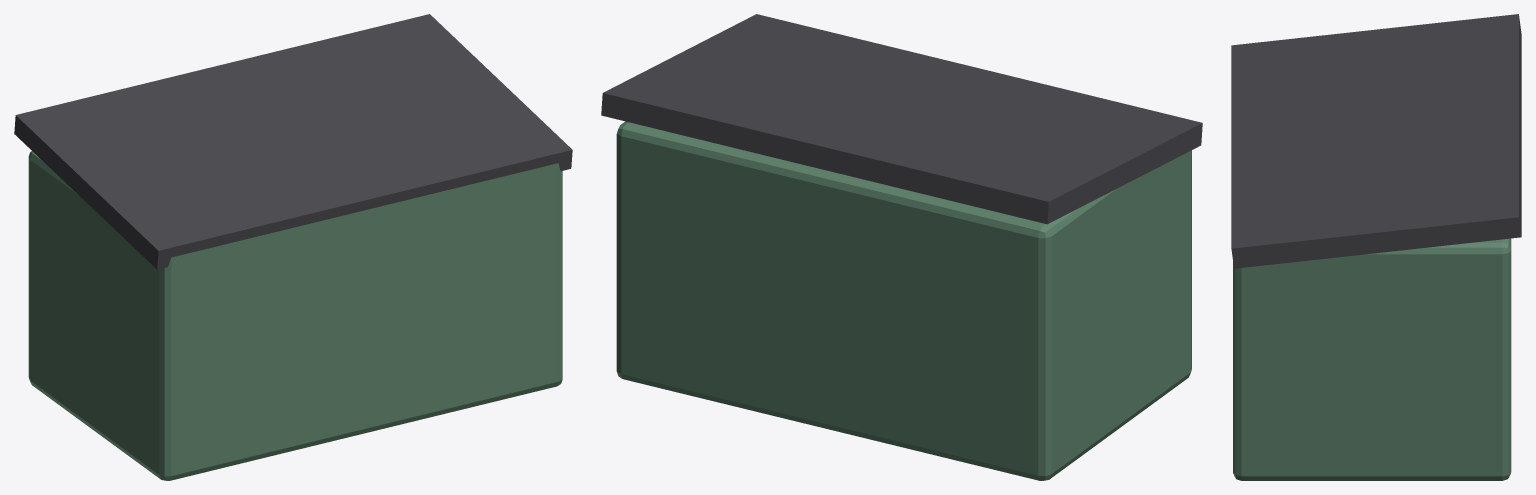
Rendered from dumpster.glb.
The picture shows the model from 3 angles, left to right: view 1: azimuth 30°, elevation 25°; view 2: azimuth 150°, elevation 25°; view 3: azimuth 270°, elevation 25°; orthographic projection. The views are drawn at different scales.
Parts seen in each view (by area): view 1: Bin, Lid; view 2: Bin, Lid; view 3: Lid, Bin.
Boxes of the visible parts, bbox=[...] form: Bin: bbox=[28, 151, 562, 480]; Lid: bbox=[14, 14, 572, 269]; Bin: bbox=[616, 121, 1191, 480]; Lid: bbox=[601, 14, 1202, 224]; Lid: bbox=[1231, 14, 1521, 268]; Bin: bbox=[1233, 238, 1511, 480].
Size of what is drawn, in the model's own units: 2.16 by 1.34 by 1.3.
